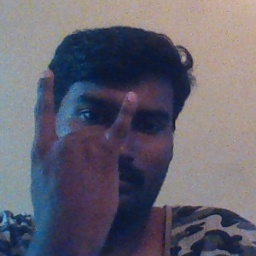V: (22, 65, 145, 238)
